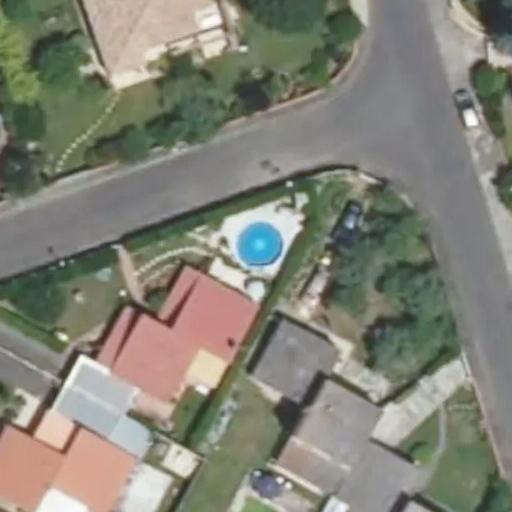pool: (232, 220, 279, 263)
